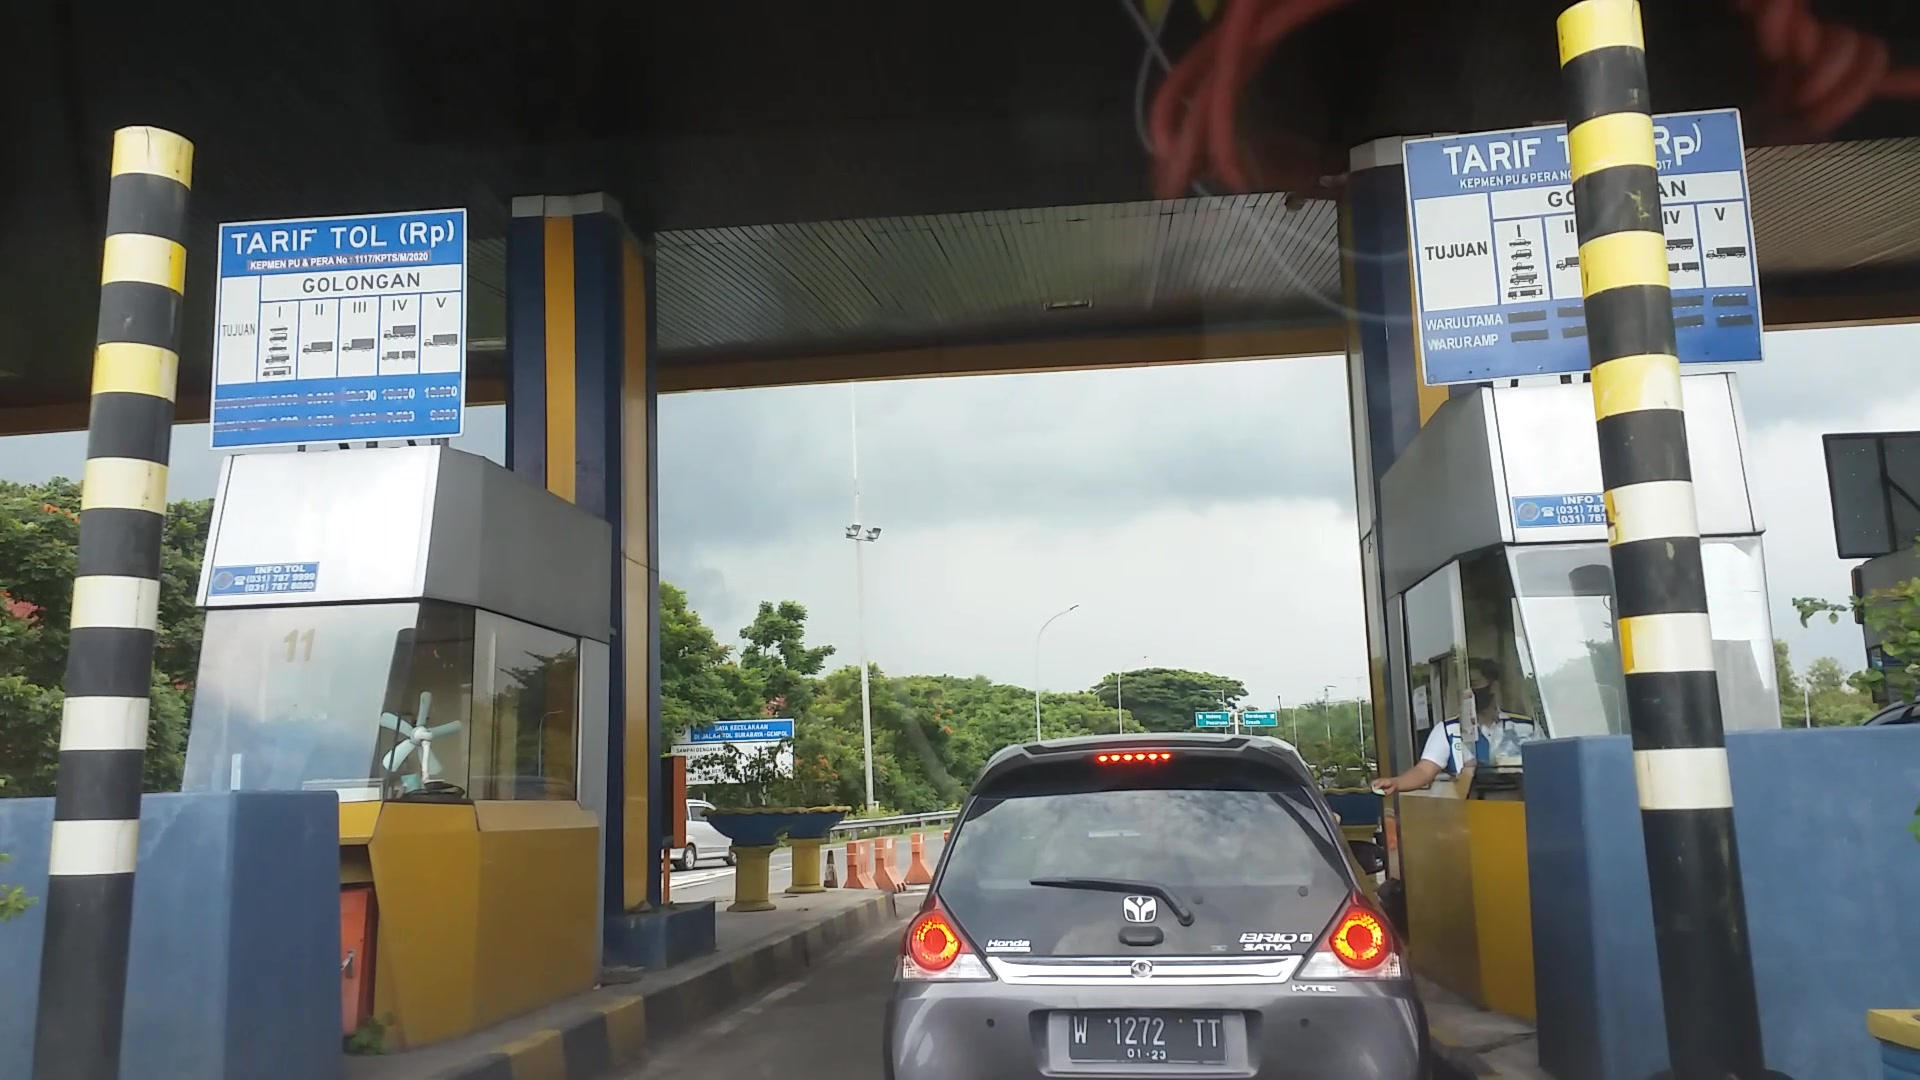plate_positive: (1069, 1011, 1225, 1062)
